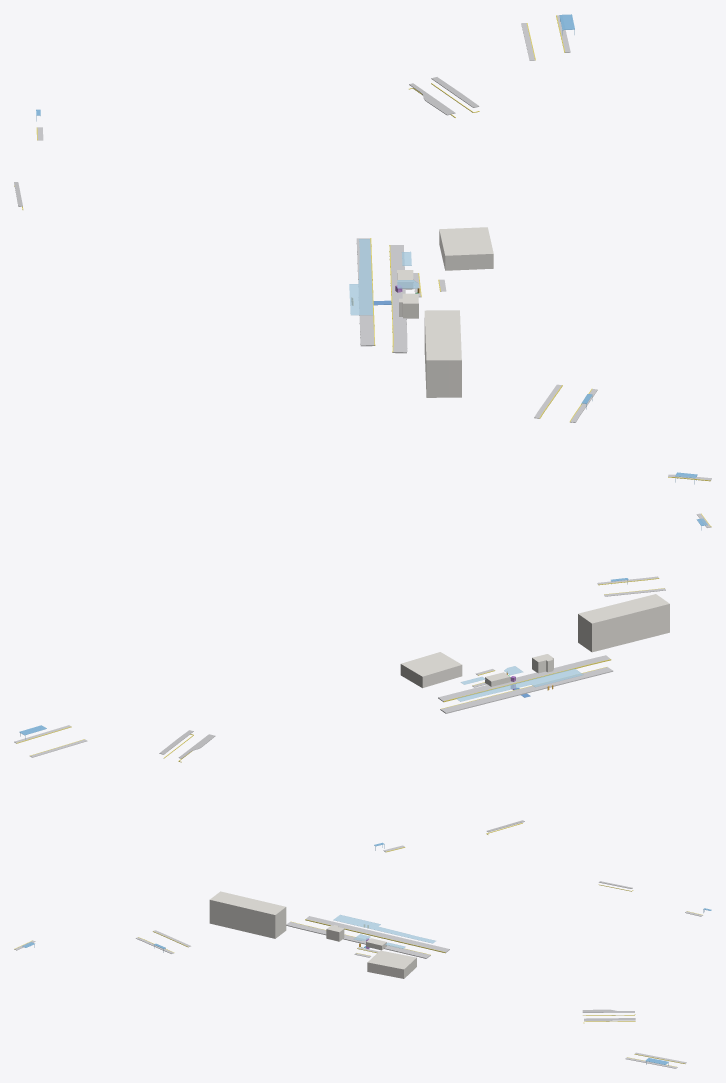
File: 8507083-koeniz.glb
3 views of the same model, one above another, from view 1: azimuth 30°, elevation 25°; view 2: azimuth 150°, elevation 25°; view 3: azimuth 270°, elevation 25° (orthographic). The views are drawn at different scales.
Visible parts, largest first — view 1: building_part@x, platform_body@0, roof@0, boarding_edge@0, platform_surface@0; view 2: building_part@x, platform_body@0, roof@0, boarding_edge@0; view 3: building_part@x, platform_body@0, roof@0, boarding_edge@0, platform_surface@0.
Part boxes in pixels (x1,y1,x2,y2): building_part@x: [397, 227, 493, 397]; platform_body@0: [37, 15, 711, 480]; roof@0: [349, 239, 418, 315]; boarding_edge@0: [14, 15, 710, 481]; platform_surface@0: [14, 77, 479, 206]; building_part@x: [400, 594, 669, 688]; platform_body@0: [14, 513, 711, 851]; roof@0: [456, 666, 583, 701]; boarding_edge@0: [16, 513, 711, 852]; building_part@x: [209, 891, 416, 978]; platform_body@0: [14, 911, 702, 1068]; roof@0: [333, 914, 435, 948]; boarding_edge@0: [14, 884, 702, 1066]; platform_surface@0: [582, 881, 635, 1020].
Bounding box in the file's own units: 296 × 22.12 × 465.
